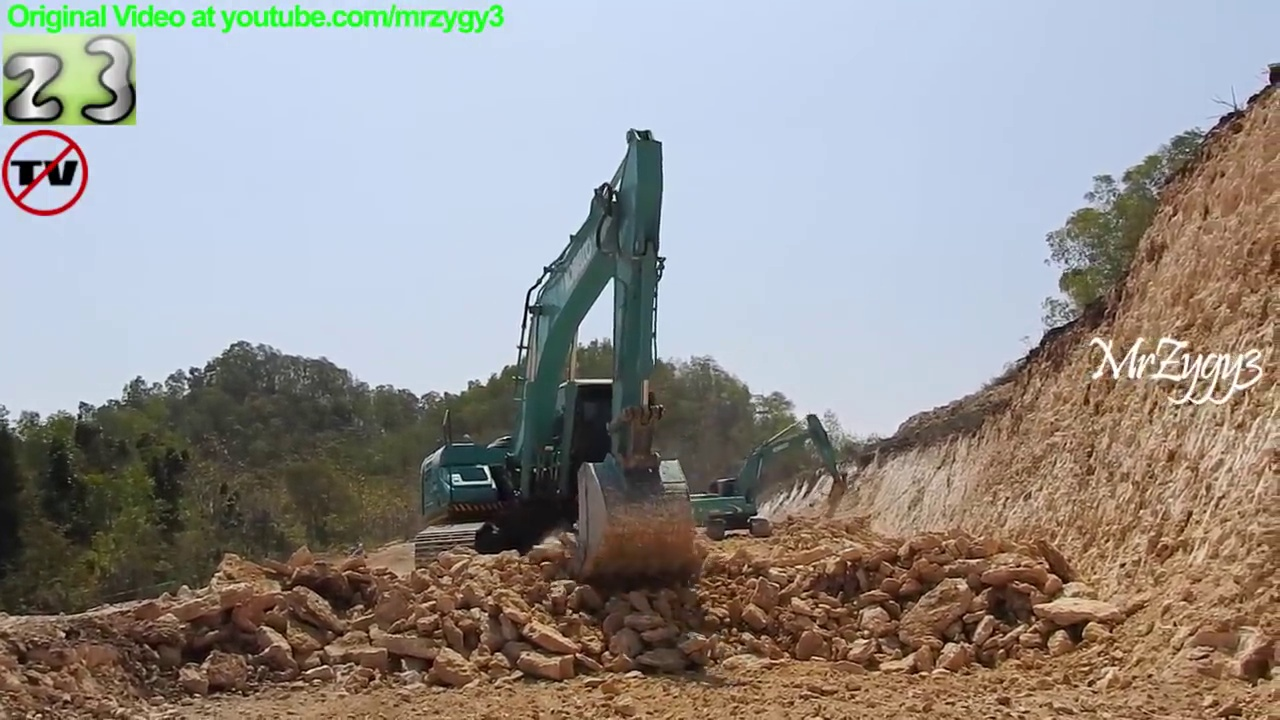excavator: (409, 123, 702, 592), (671, 409, 851, 544)
